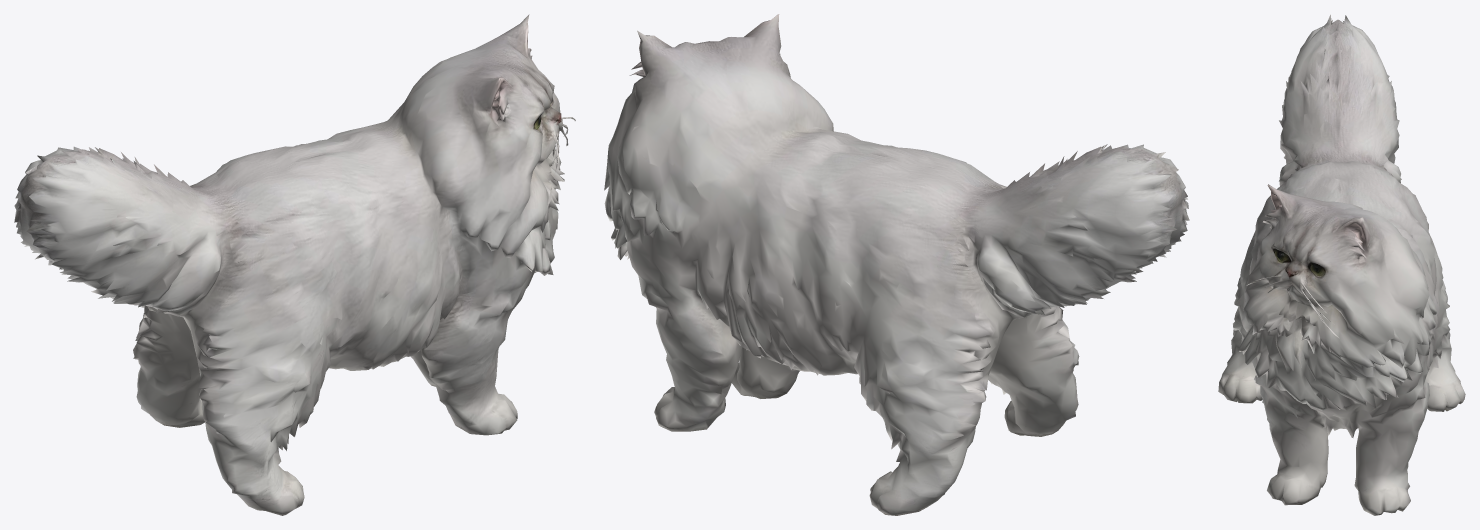
File: SNOWBELCAT.glb
The picture shows the model from 3 angles, left to right: view 1: azimuth 30°, elevation 25°; view 2: azimuth 150°, elevation 25°; view 3: azimuth 270°, elevation 25°; orthographic projection. The views are drawn at different scales.
Parts seen in each view (by area): view 1: tripo_node_b4e6347b-b5c6-4c41-b260-4b6d64957a70; view 2: tripo_node_b4e6347b-b5c6-4c41-b260-4b6d64957a70; view 3: tripo_node_b4e6347b-b5c6-4c41-b260-4b6d64957a70.
Boxes of the visible parts, x1=… form: tripo_node_b4e6347b-b5c6-4c41-b260-4b6d64957a70: x1=14, y1=14, x2=575, y2=515; tripo_node_b4e6347b-b5c6-4c41-b260-4b6d64957a70: x1=604, y1=14, x2=1189, y2=515; tripo_node_b4e6347b-b5c6-4c41-b260-4b6d64957a70: x1=1218, y1=14, x2=1465, y2=515.
Size of the model in its own units: 1.57 by 1 by 0.7071.
Materials: 1 (1 with a texture image).
